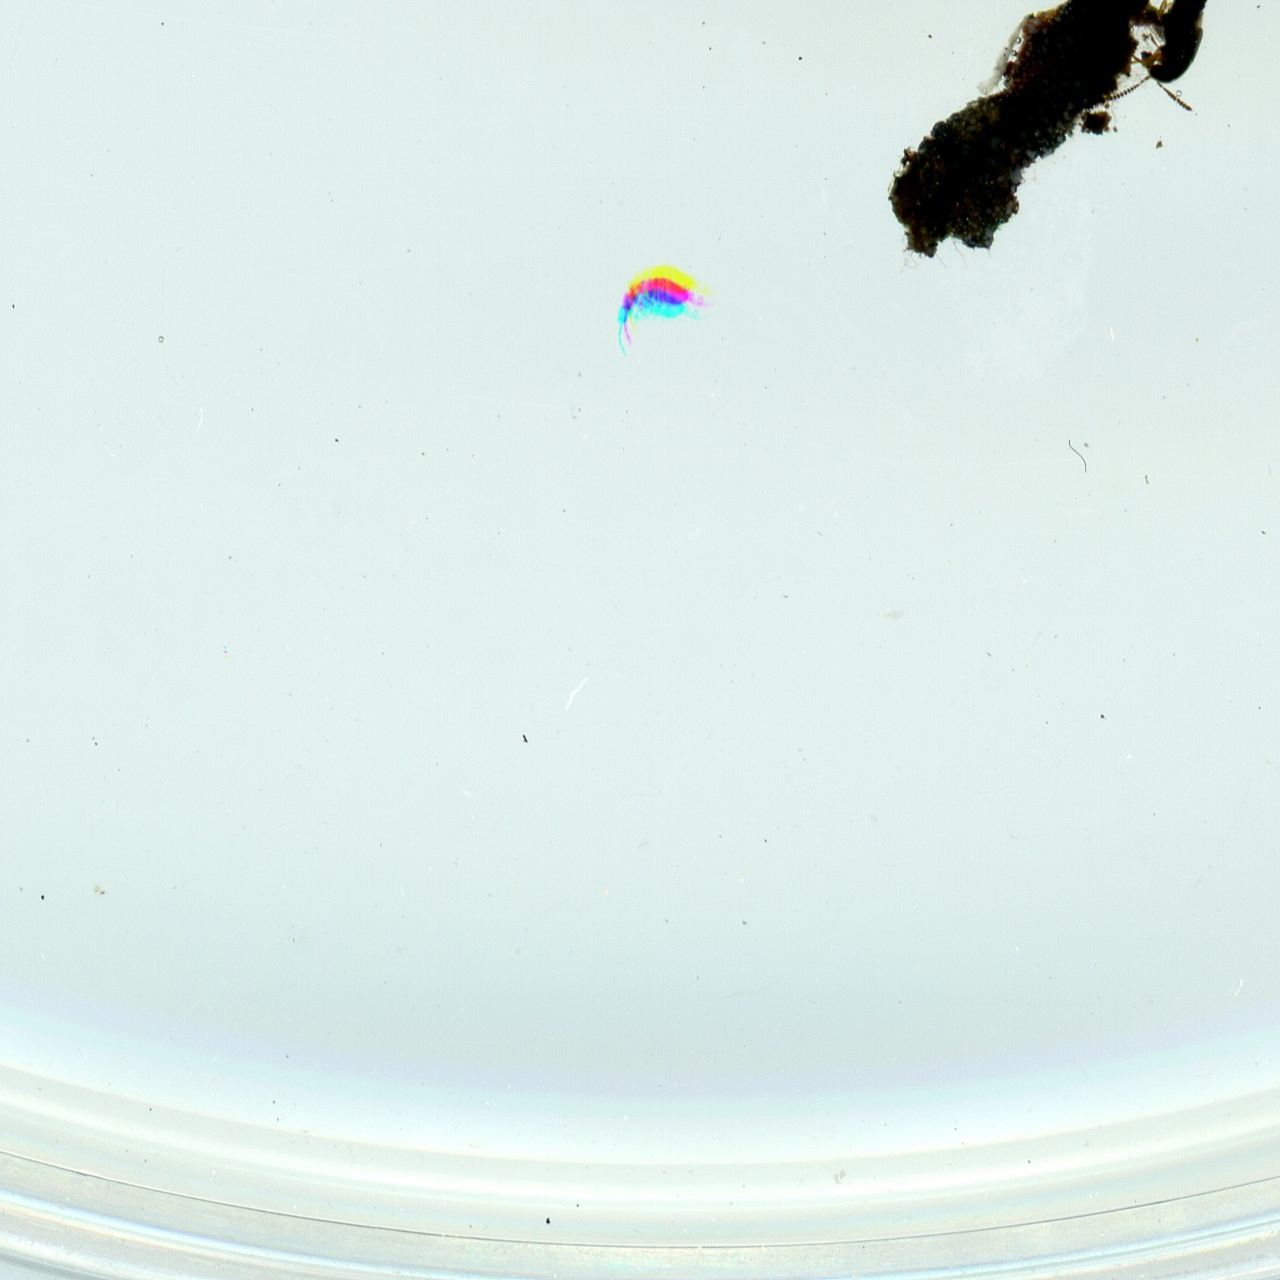arthropod: (1089, 0, 1254, 134), (607, 259, 720, 363)
